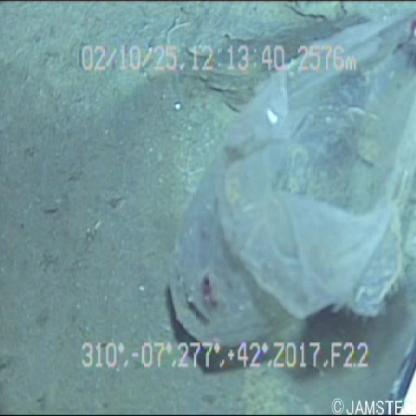Rác: (141, 3, 416, 363)
